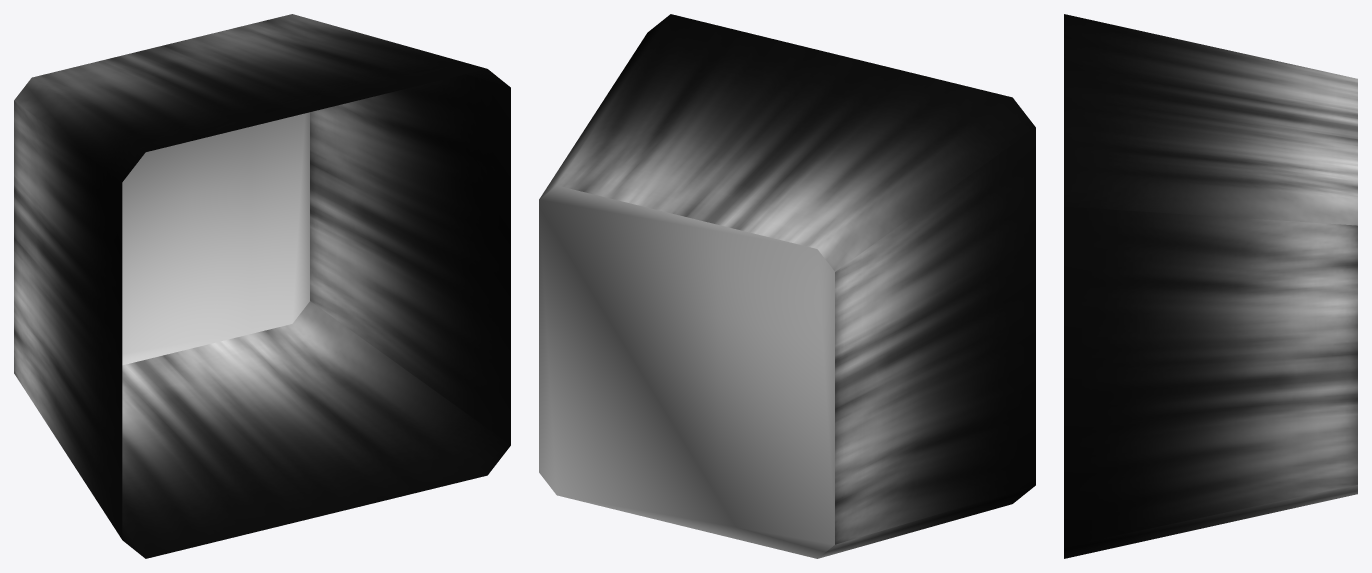
File: Light_Flat_SquareSmall_lightcone.FBX
3 renders of one model, left to right at view 1: azimuth 30°, elevation 25°; view 2: azimuth 150°, elevation 25°; view 3: azimuth 270°, elevation 25°, orthographic. The views are drawn at different scales.
Parts seen in each view (by area): view 1: Light_Flat_SquareSmall_lightcone; view 2: Light_Flat_SquareSmall_lightcone; view 3: Light_Flat_SquareSmall_lightcone.
Boxes of the visible parts, <box> form: Light_Flat_SquareSmall_lightcone: <box>14,14,510,558</box>; Light_Flat_SquareSmall_lightcone: <box>539,14,1035,558</box>; Light_Flat_SquareSmall_lightcone: <box>1064,14,1357,558</box>.
Bounding box in the file's own units: 40.01 × 40.01 × 27.57.
